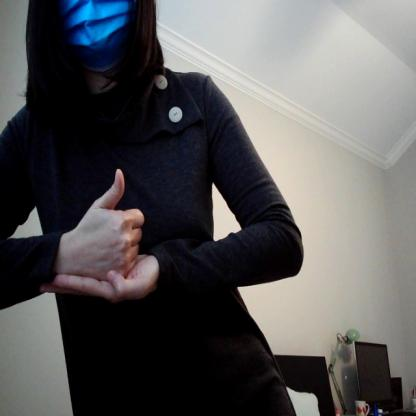help: (38, 161, 165, 304)
